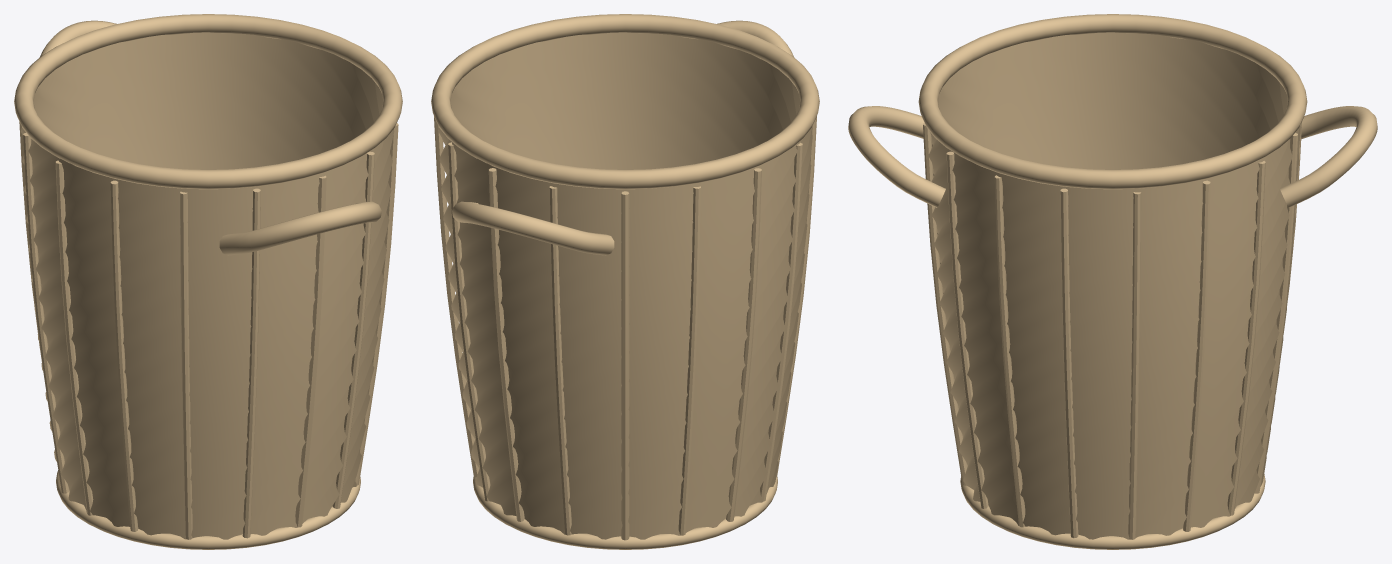
The model's file is textiles_laundry_basket.fbx.
The picture shows the model from 3 angles, left to right: view 1: azimuth 30°, elevation 25°; view 2: azimuth 150°, elevation 25°; view 3: azimuth 270°, elevation 25°; orthographic projection.
Parts seen in each view (by area): view 1: textiles_laundry_basket; view 2: textiles_laundry_basket; view 3: textiles_laundry_basket.
Part boxes in pixels (x1,y1,x2,y2): textiles_laundry_basket: (14, 14, 402, 549); textiles_laundry_basket: (431, 14, 819, 549); textiles_laundry_basket: (848, 14, 1377, 549).
Bounding box in the file's own units: 0.438 × 0.4909 × 0.5966.
